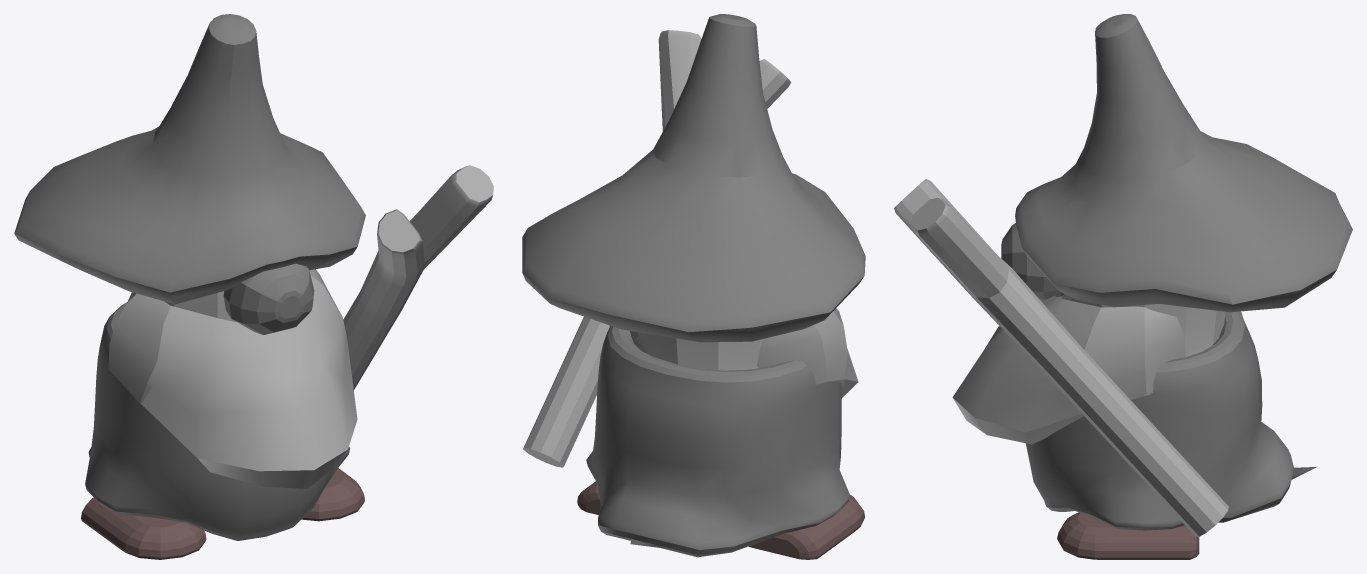
Rendered from gnome_mar26.fbx.
The picture shows the model from 3 angles, left to right: view 1: azimuth 30°, elevation 25°; view 2: azimuth 150°, elevation 25°; view 3: azimuth 270°, elevation 25°; orthographic projection.
Parts seen in each view (by area): view 1: gnome_full, staff, alt_beard; view 2: gnome_full, staff, alt_beard; view 3: gnome_full, staff, alt_beard.
Boxes of the visible parts, x1,y1,x2,y2 form: gnome_full: (14, 14, 365, 559); staff: (343, 165, 493, 390); alt_beard: (108, 269, 330, 406); gnome_full: (522, 14, 865, 559); staff: (523, 30, 791, 467); alt_beard: (609, 317, 847, 387); gnome_full: (952, 14, 1352, 559); staff: (894, 179, 1228, 536); alt_beard: (1057, 296, 1185, 394).
Bounding box in the file's own units: 8.15 × 11.92 × 10.21.
